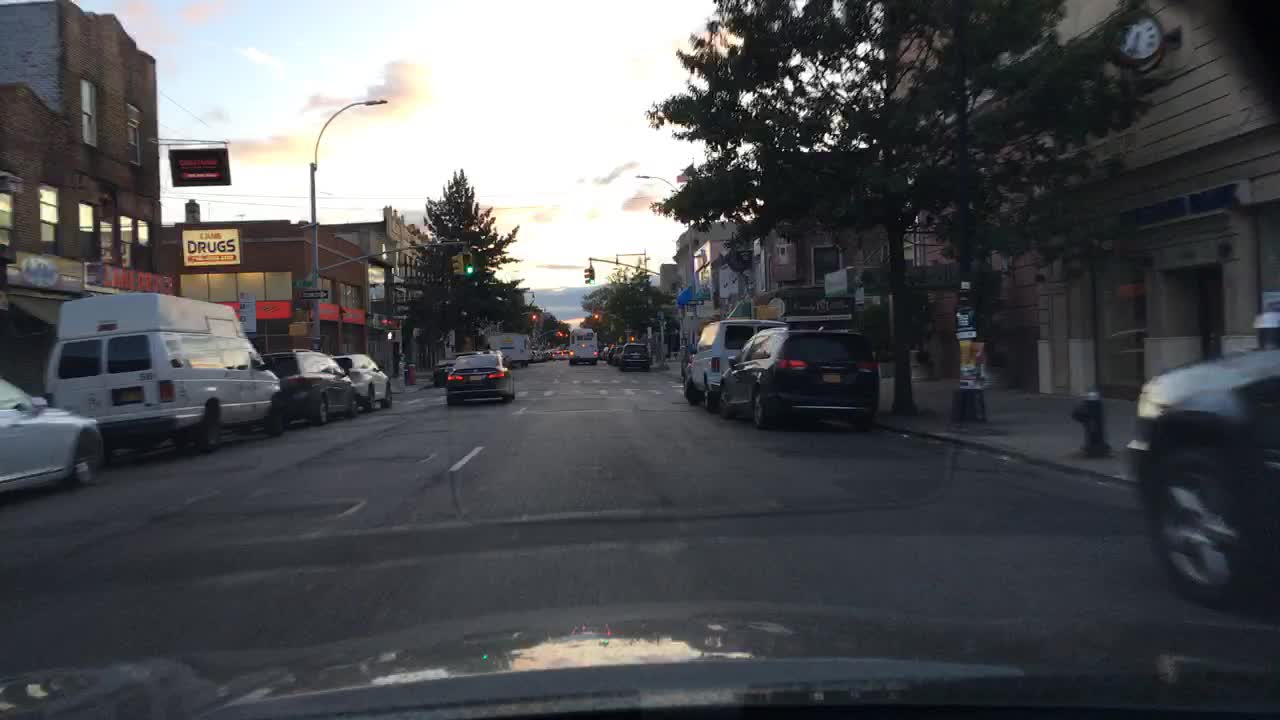bus: (487, 332, 531, 368), (569, 326, 600, 367)
car: (1125, 346, 1280, 609), (45, 292, 293, 453), (717, 324, 880, 430), (0, 376, 105, 494), (681, 318, 788, 412), (260, 347, 362, 427), (445, 349, 515, 406), (330, 352, 394, 414), (617, 341, 652, 372), (432, 358, 457, 388), (613, 346, 625, 367), (607, 344, 619, 364), (456, 350, 489, 357), (530, 348, 542, 364), (598, 344, 609, 360), (542, 349, 552, 360), (549, 347, 559, 355), (563, 347, 569, 360)
traffic light: (756, 304, 781, 319), (286, 323, 308, 337), (462, 251, 474, 274), (451, 252, 463, 275), (583, 266, 590, 285), (385, 331, 399, 340), (588, 267, 594, 284), (593, 311, 601, 321), (532, 308, 538, 321), (629, 333, 636, 344), (558, 329, 563, 340)
traffic sign: (237, 291, 257, 335), (299, 288, 330, 299), (292, 279, 313, 287), (686, 298, 705, 304)
